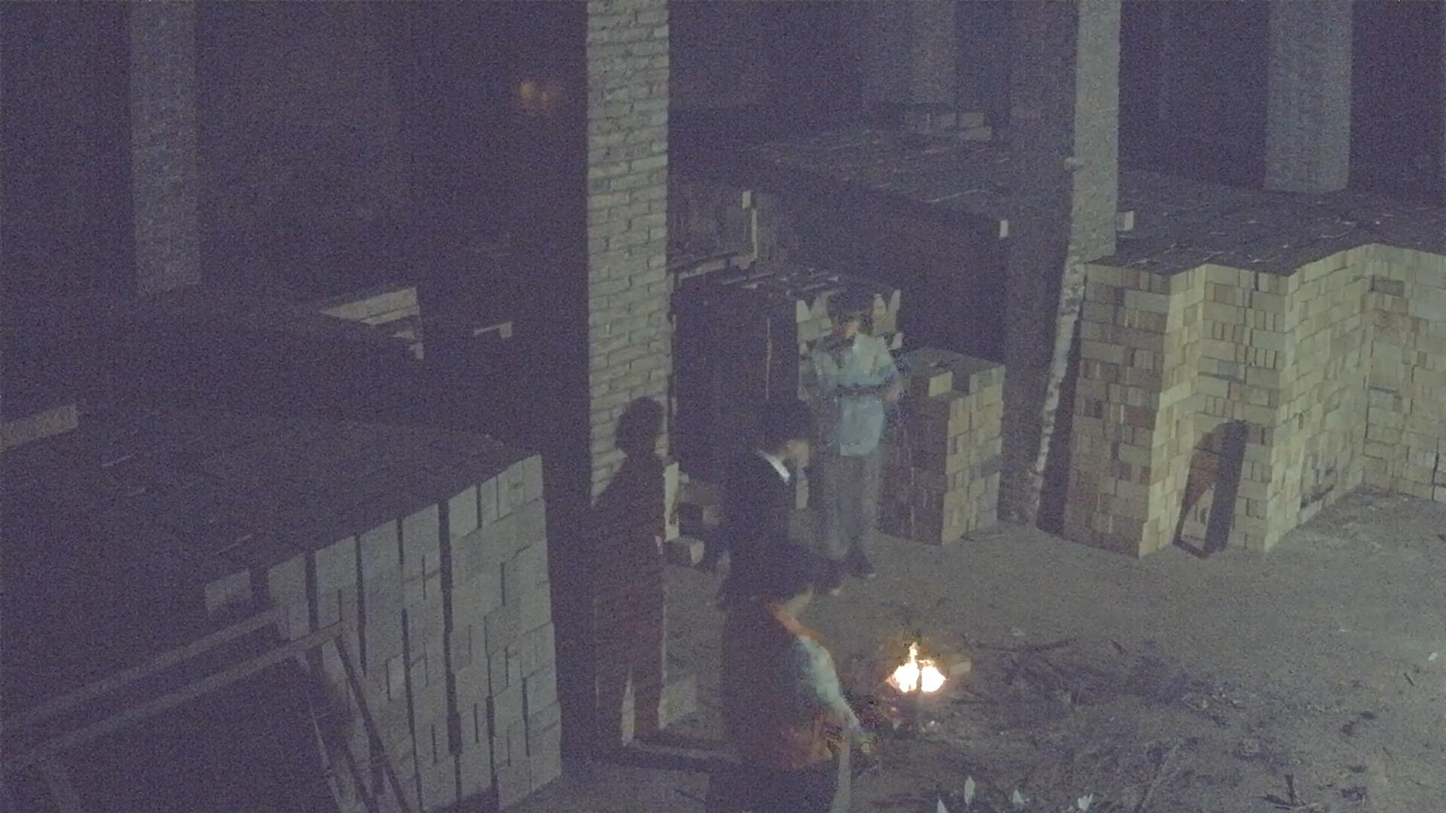fire: (889, 644, 946, 693)
